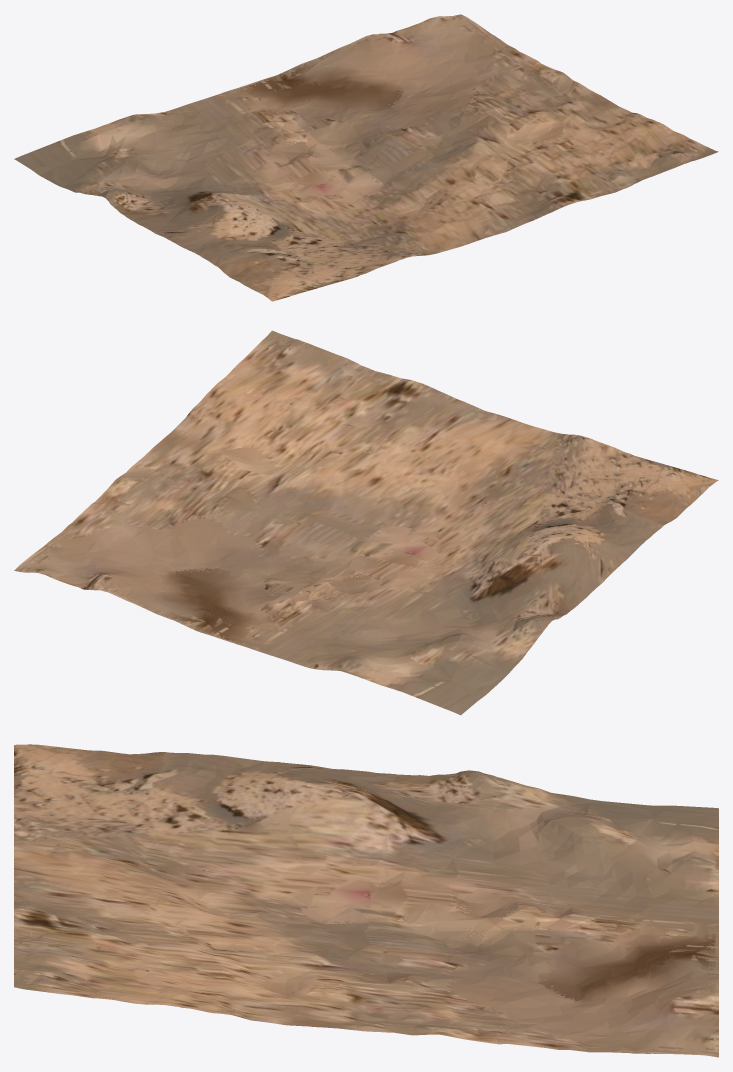
The picture shows the model from 3 angles, top to bottom: view 1: azimuth 30°, elevation 25°; view 2: azimuth 150°, elevation 25°; view 3: azimuth 270°, elevation 25°; orthographic projection. The views are drawn at different scales.
Bounding box in the file's own units: 2.09 × 0.3889 × 2.09.
2 materials, 2 textured.
